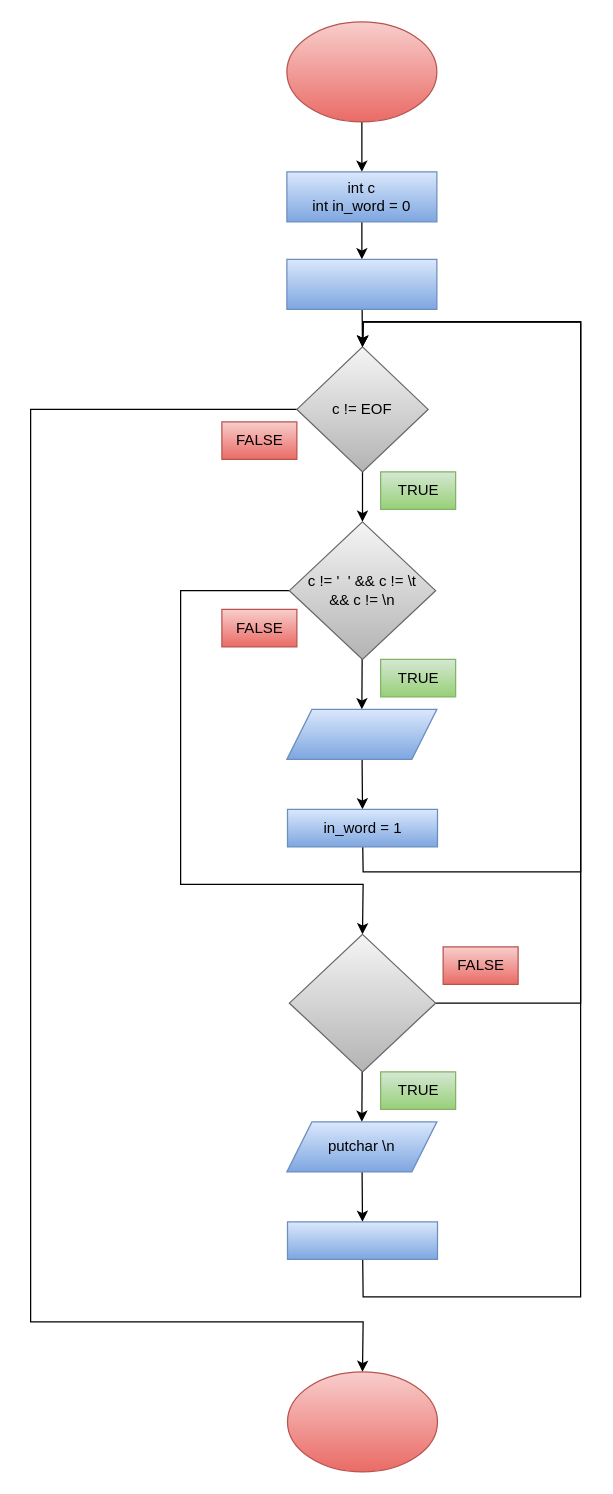
The diagram is 613 pixels wide and 1494 high, and some of its shapes have lost their labels. Here are the shapes that lost their labels. From the top down, the centre of each, then its label:
point 361,71: START
point 361,283: c = getchar()
point 361,733: putchar c
point 362,1002: in_word == 1
point 362,1240: in_word = 0
point 362,1421: END
